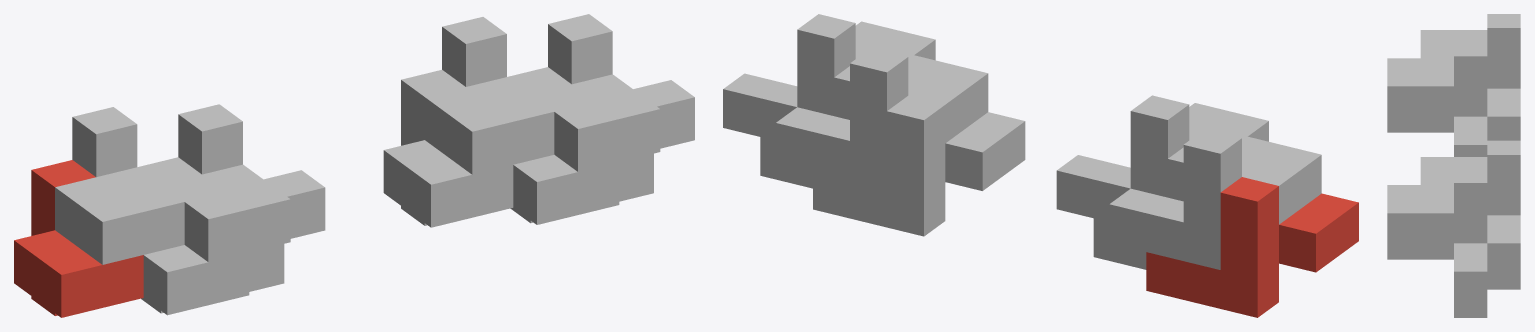
File: tiling.obj
3 views of the same model, side by side, from view 1: azimuth 30°, elevation 25°; view 2: azimuth 150°, elevation 25°; view 3: azimuth 270°, elevation 25° (orthographic). The views are drawn at different scales.
Parts seen in each view (by area): view 1: copy_1_domain_4, copy_1_domain_8, copy_1_domain_7, copy_1_domain_3, copy_1_domain_5, copy_1_domain_1, copy_1_domain_2, copy_1_domain_6; view 2: copy_1_domain_1, copy_1_domain_5, copy_1_domain_3, copy_1_domain_7, copy_1_domain_4, copy_1_domain_8, copy_1_domain_2, copy_1_domain_6; view 3: copy_1_domain_8, copy_1_domain_4, copy_1_domain_7, copy_1_domain_3, copy_1_domain_6, copy_1_domain_2, copy_1_domain_5.
Boxes of the visible parts, x1,y1,x2,y2 form: copy_1_domain_4: (161, 104, 325, 262); copy_1_domain_8: (531, 14, 694, 171); copy_1_domain_7: (424, 17, 554, 174); copy_1_domain_3: (55, 107, 184, 264); copy_1_domain_5: (383, 70, 513, 227); copy_1_domain_1: (14, 160, 143, 317); copy_1_domain_2: (137, 157, 284, 315); copy_1_domain_6: (507, 67, 653, 224); copy_1_domain_1: (1146, 177, 1358, 317); copy_1_domain_5: (813, 95, 1025, 236); copy_1_domain_3: (1109, 129, 1321, 269); copy_1_domain_7: (776, 48, 988, 188); copy_1_domain_4: (1056, 95, 1268, 221); copy_1_domain_8: (723, 14, 935, 140); copy_1_domain_2: (1093, 147, 1183, 269); copy_1_domain_6: (760, 66, 849, 188); copy_1_domain_8: (1387, 169, 1487, 301); copy_1_domain_4: (1387, 42, 1487, 156); copy_1_domain_7: (1420, 140, 1520, 273); copy_1_domain_3: (1420, 14, 1520, 140); copy_1_domain_6: (1387, 243, 1487, 317); copy_1_domain_2: (1387, 116, 1453, 132); copy_1_domain_5: (1487, 273, 1520, 289).
Bounding box in the file's own units: 16 × 4 × 4.
